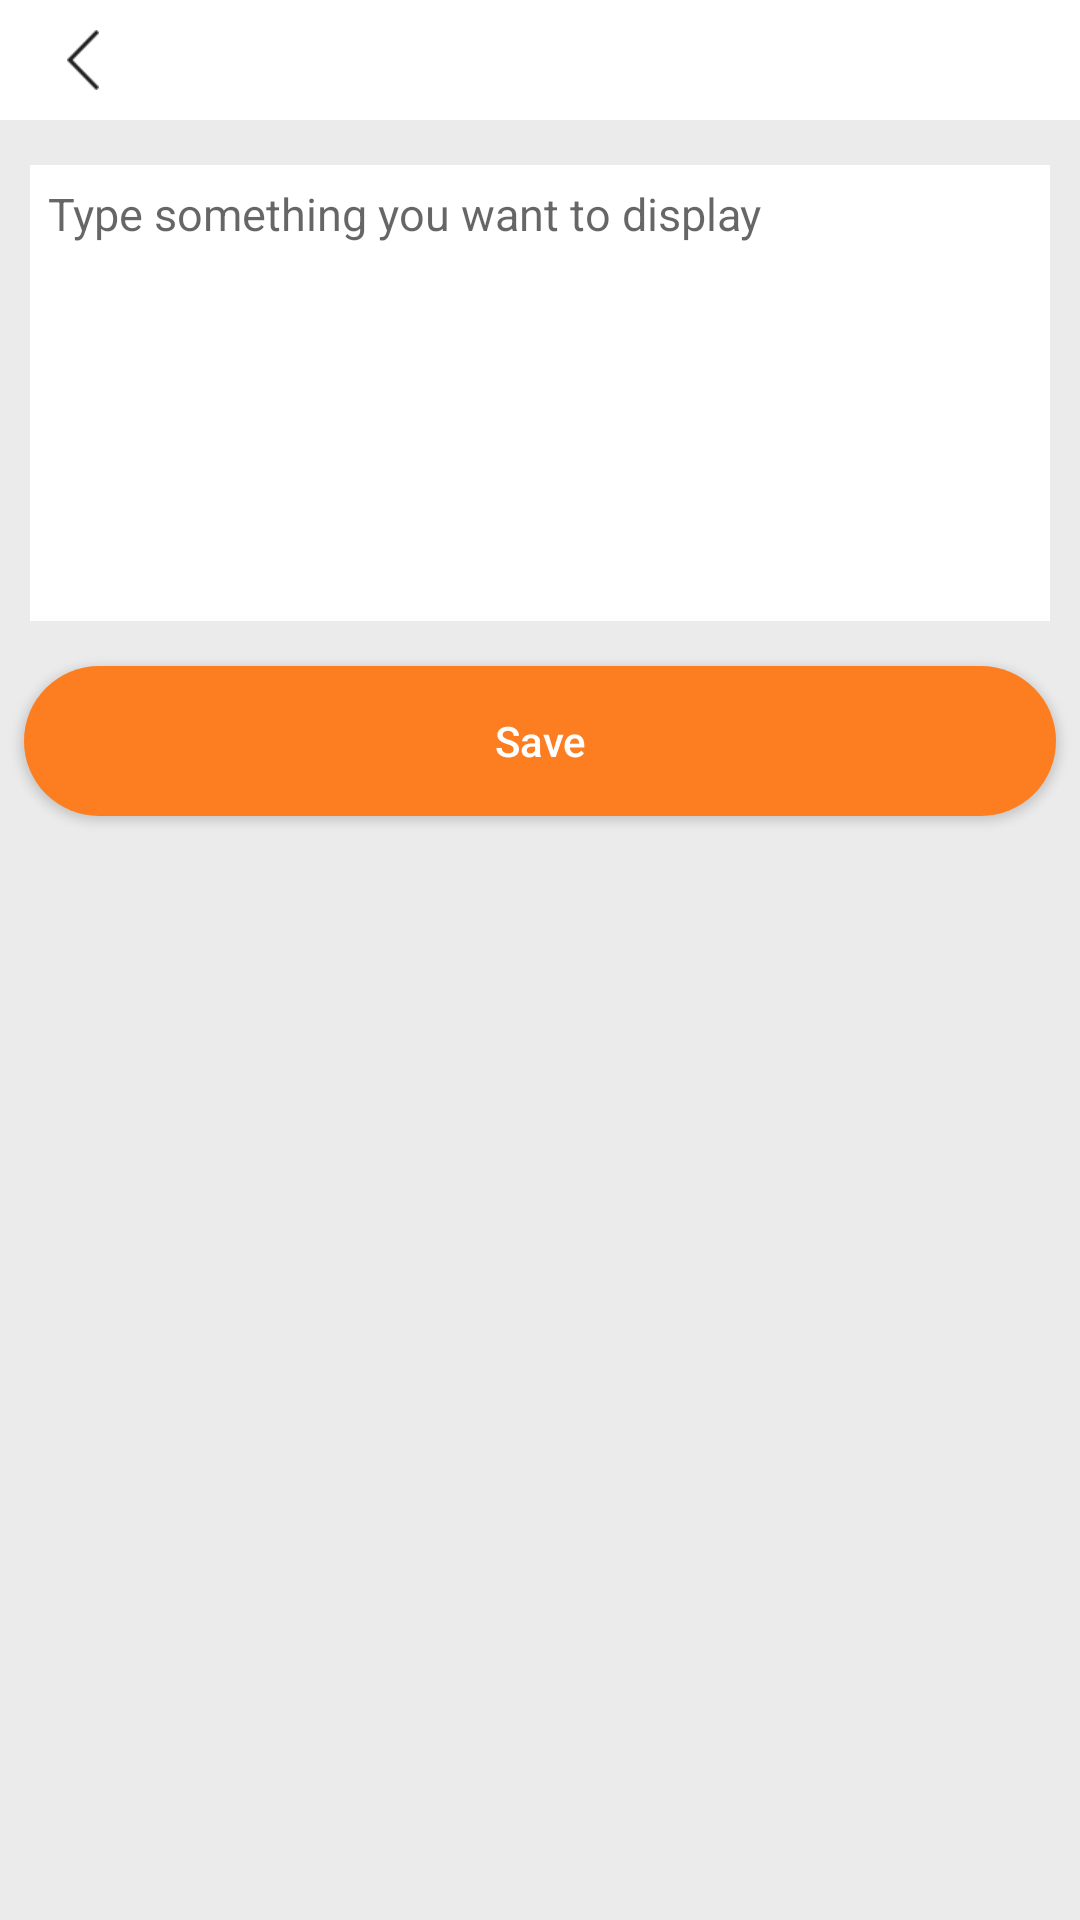

Screen size 1080 × 1920. Icon name, then its center in pixels as (x=x, y=y):
back: (x=83, y=60)
